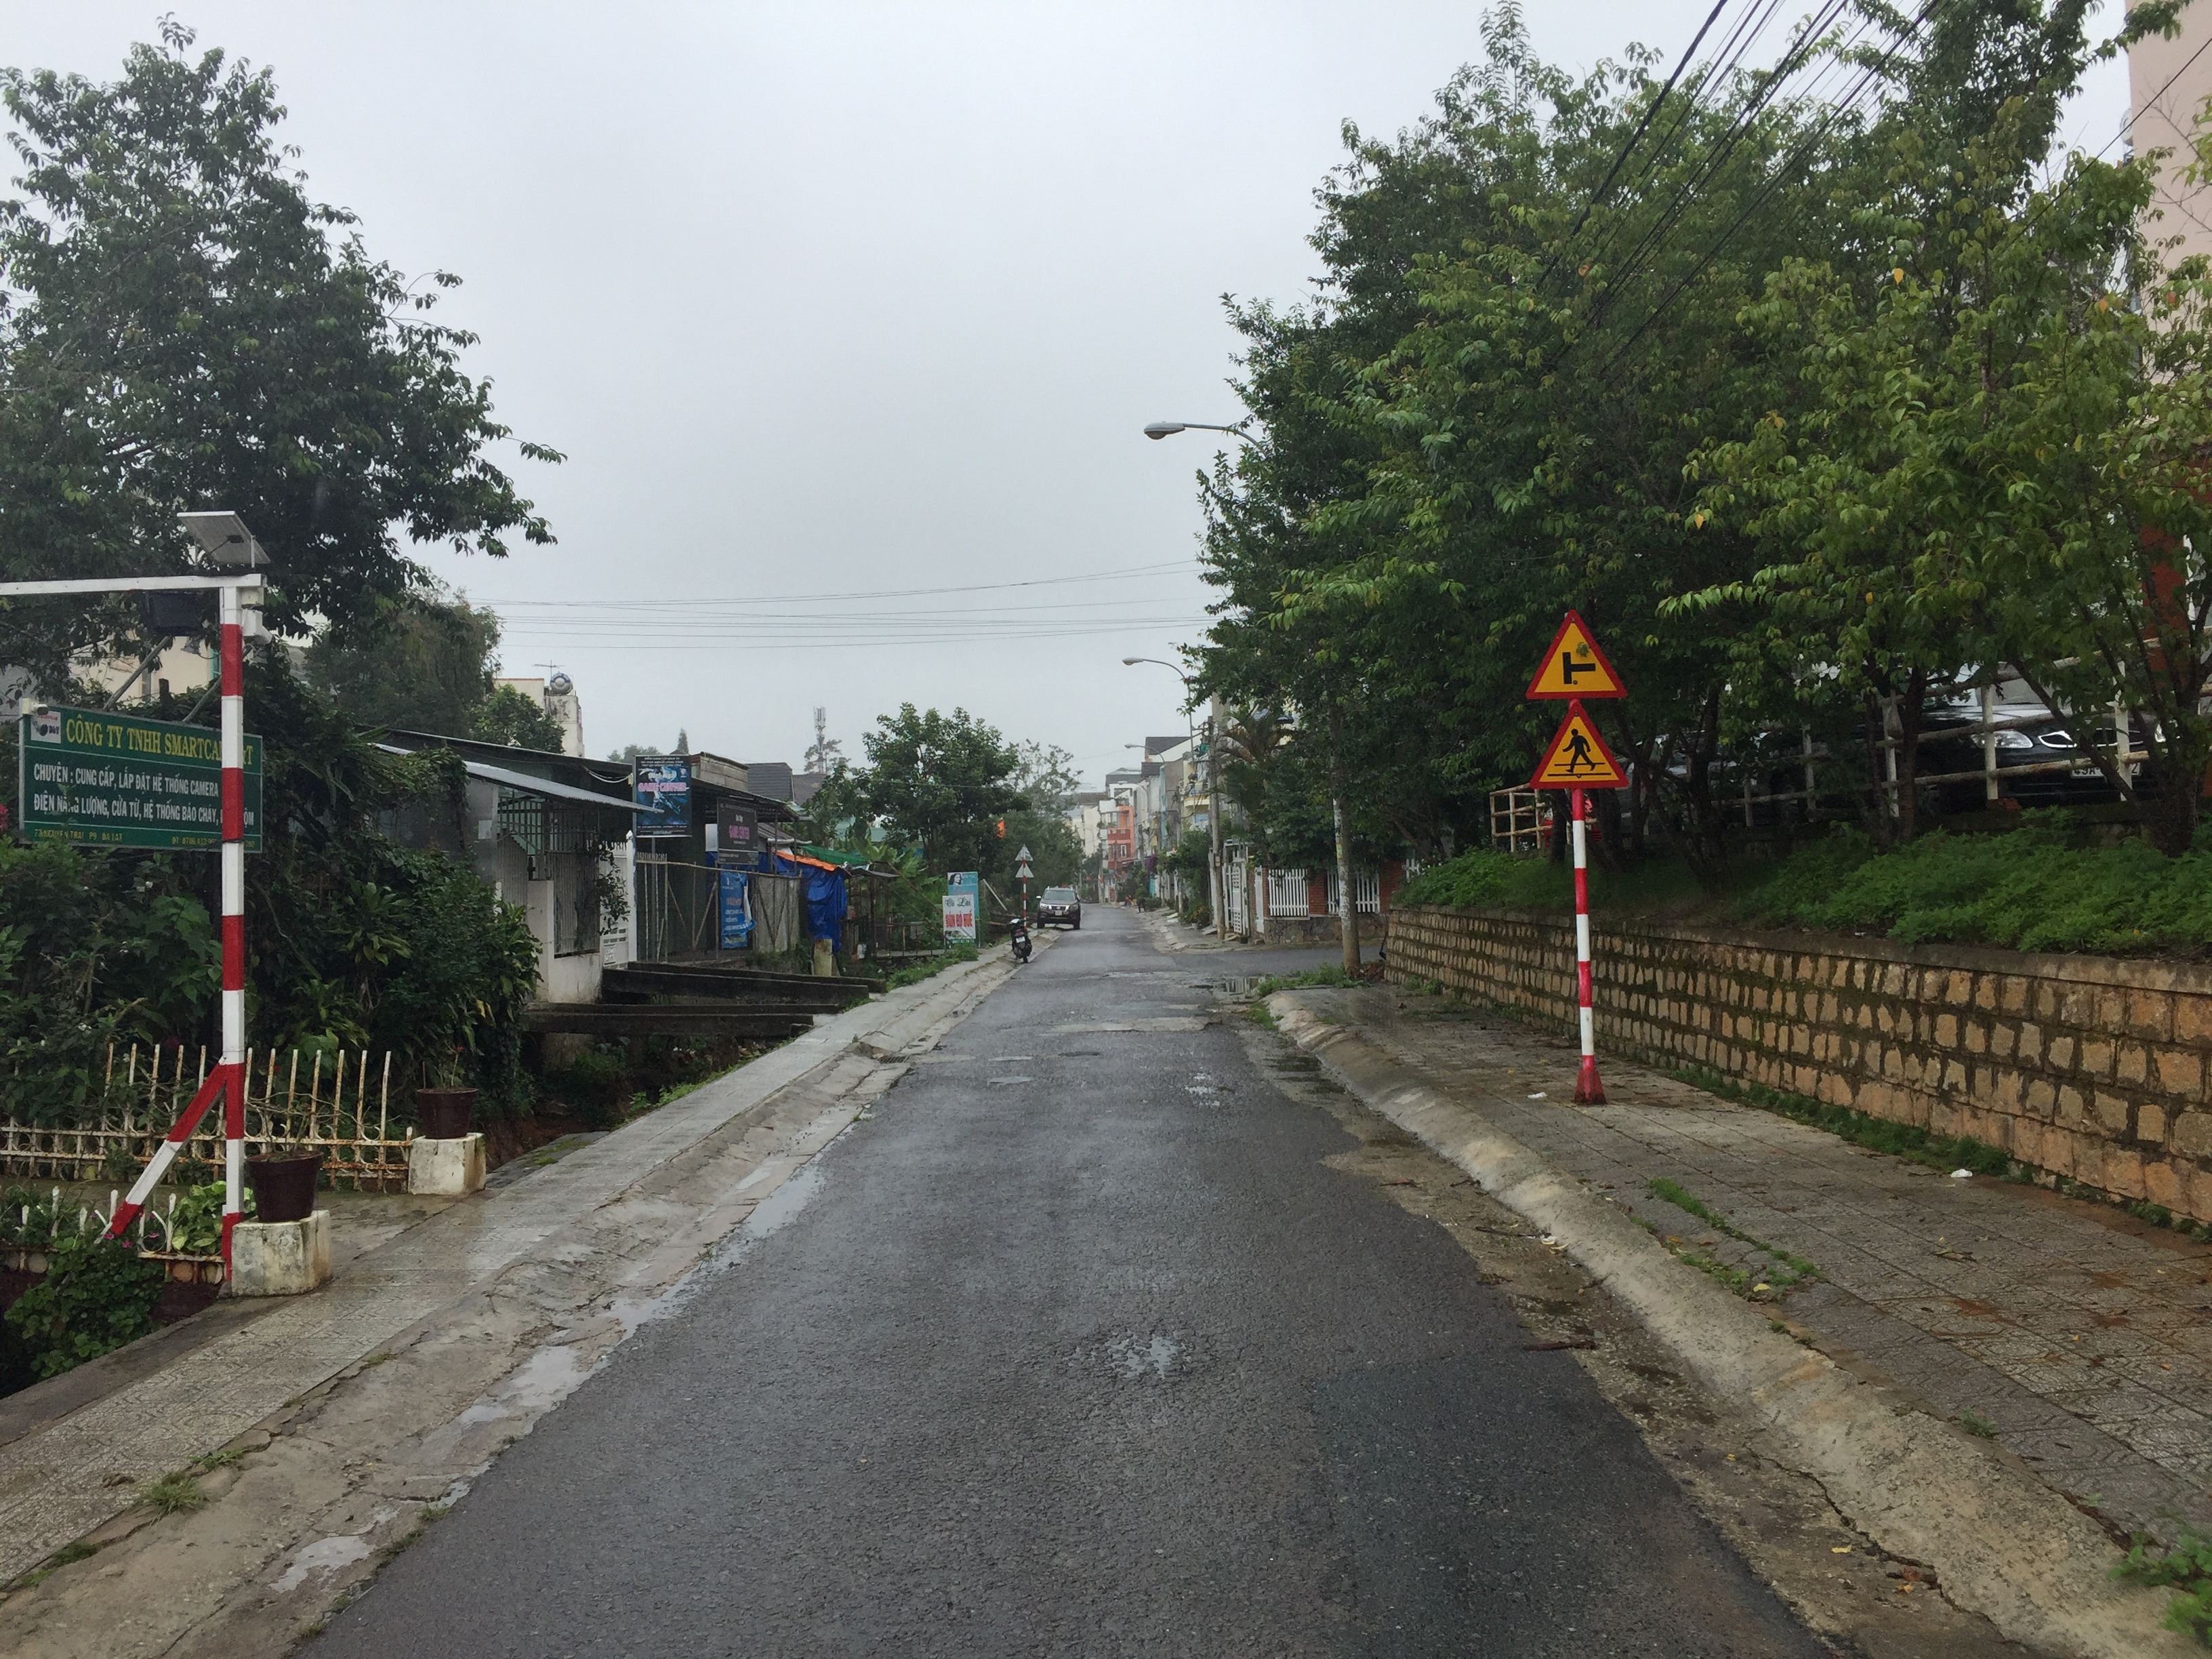hole: (1045, 1312, 1223, 1398), (1183, 978, 1266, 995), (1052, 1044, 1115, 1061), (1202, 1012, 1245, 1028)
